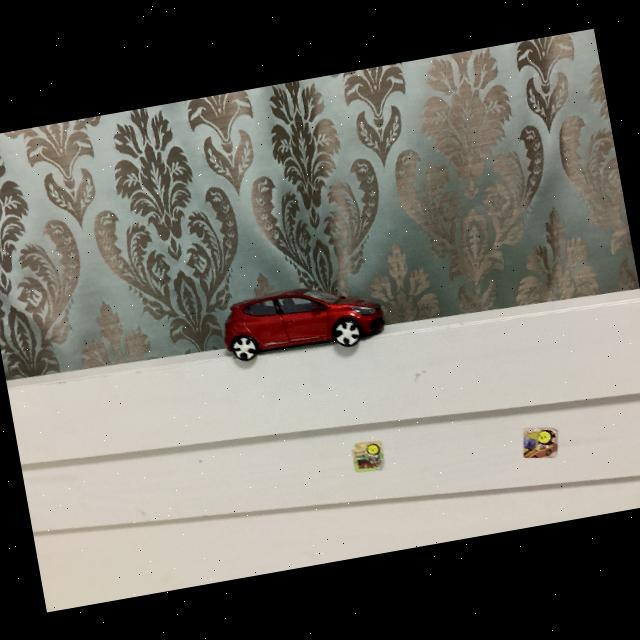Dogru_Jant: (332, 318, 362, 348), (232, 335, 258, 362)
